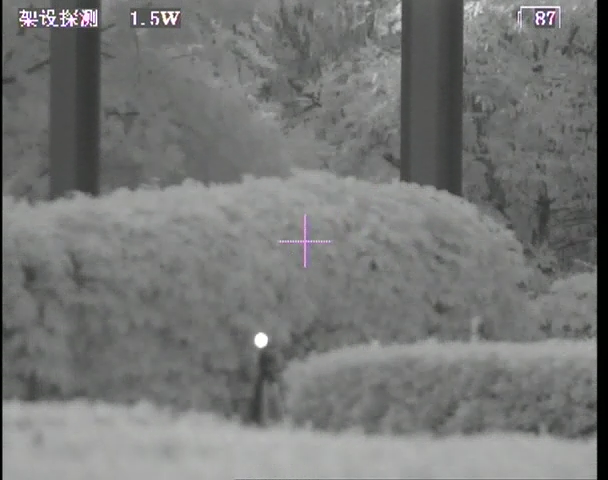my: (252, 330, 270, 348)
